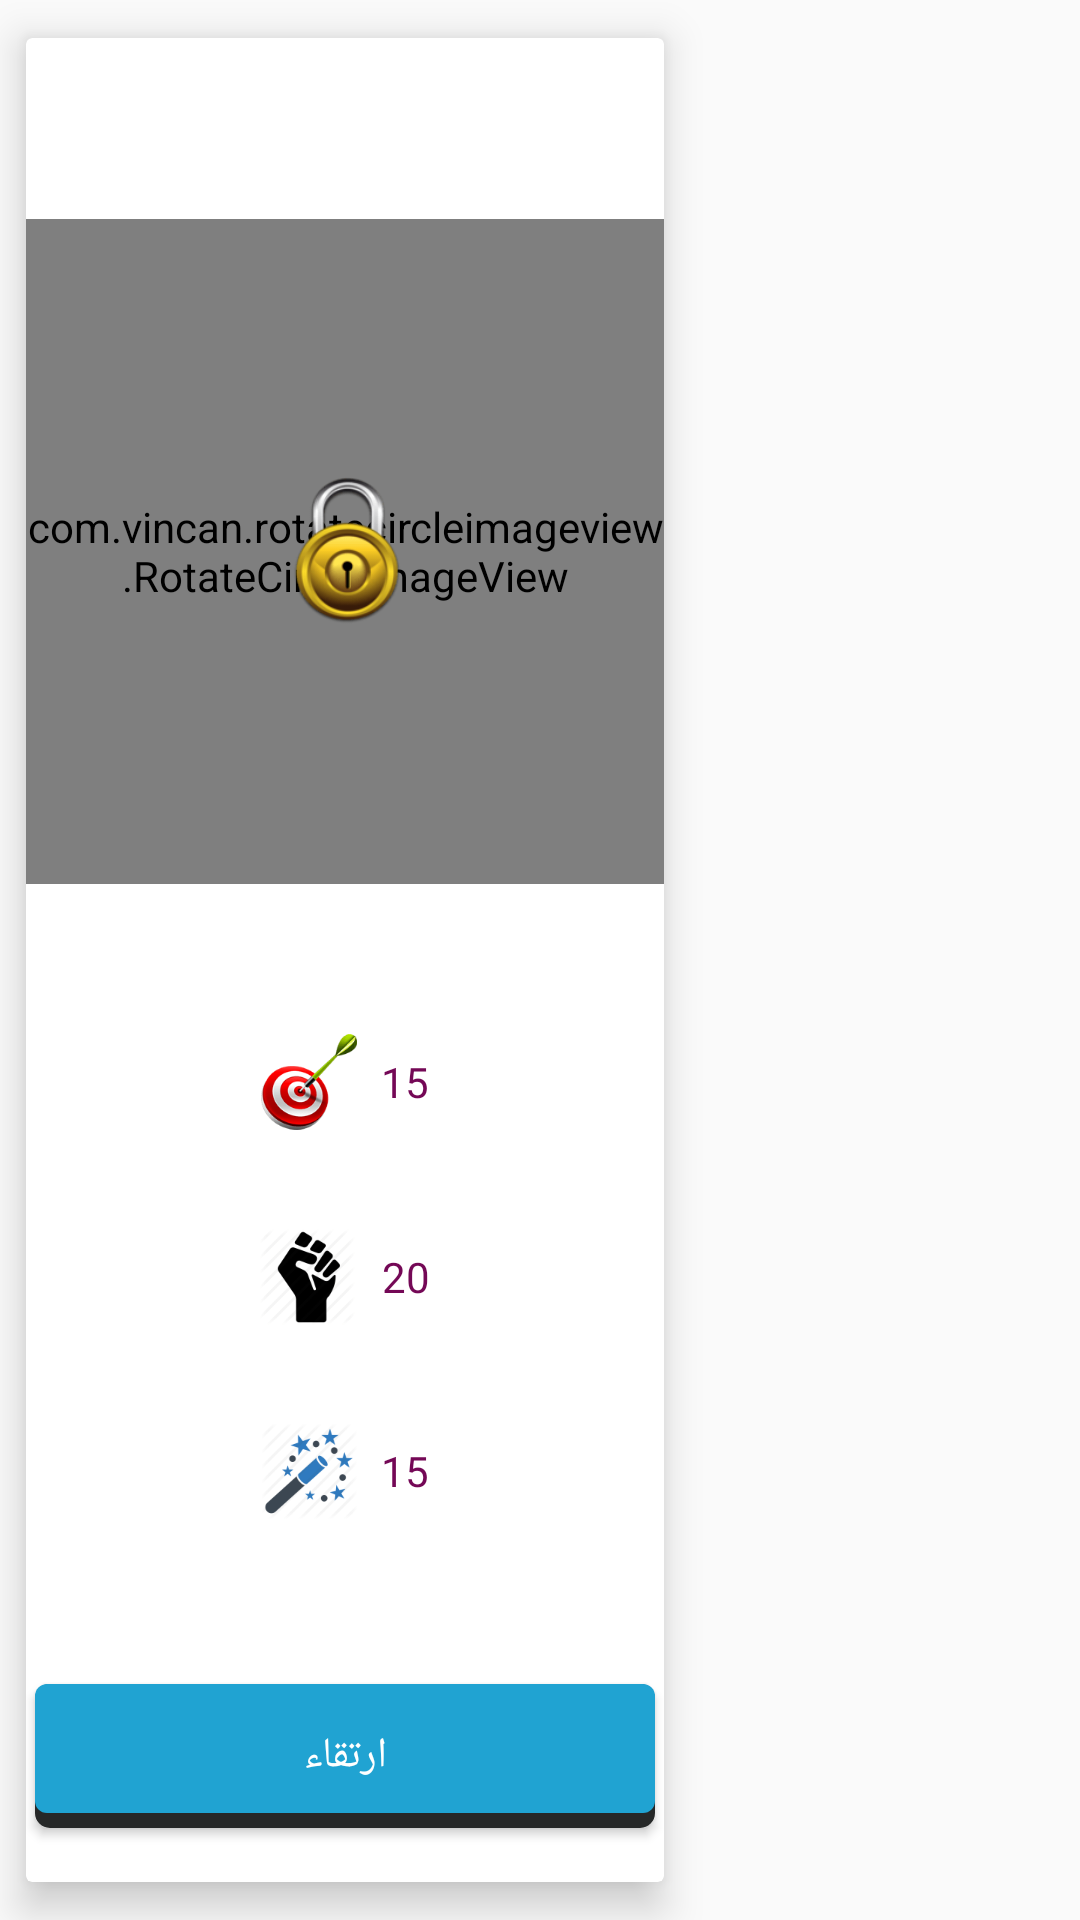

Where to tap for icons on this 1080 × 1920 app screen, as point (x, y):
imgmagic: point (309, 1471)
